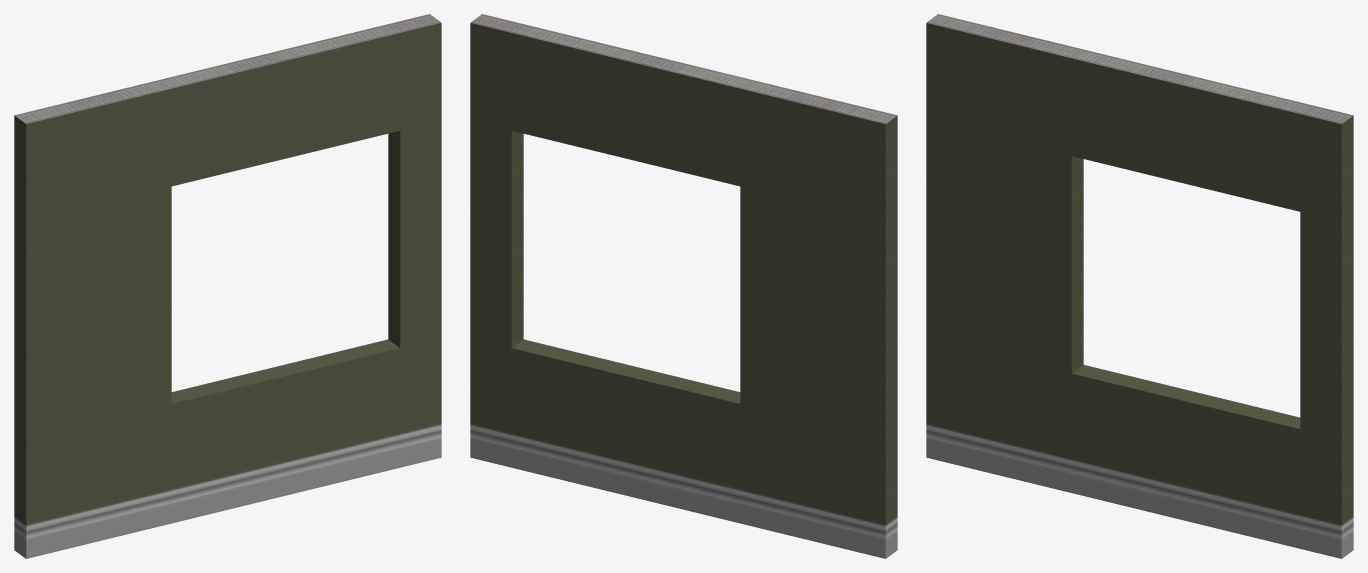
The model's file is wall2_5.fbx.
The picture shows the model from 3 angles, left to right: view 1: azimuth 30°, elevation 25°; view 2: azimuth 150°, elevation 25°; view 3: azimuth 330°, elevation 25°; orthographic projection.
Visible parts, largest first — view 1: wall2_green_e; view 2: wall2_green_e; view 3: wall2_green_e.
Part boxes in pixels (bbox=[...]): wall2_green_e: bbox=[14, 14, 441, 558]; wall2_green_e: bbox=[470, 14, 897, 558]; wall2_green_e: bbox=[926, 14, 1353, 558].
Bounding box in the file's own units: 400 × 400 × 20.
